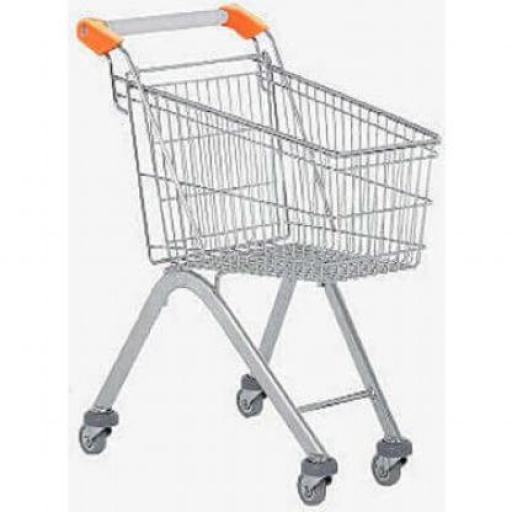shopping_cart: (75, 2, 451, 506)
